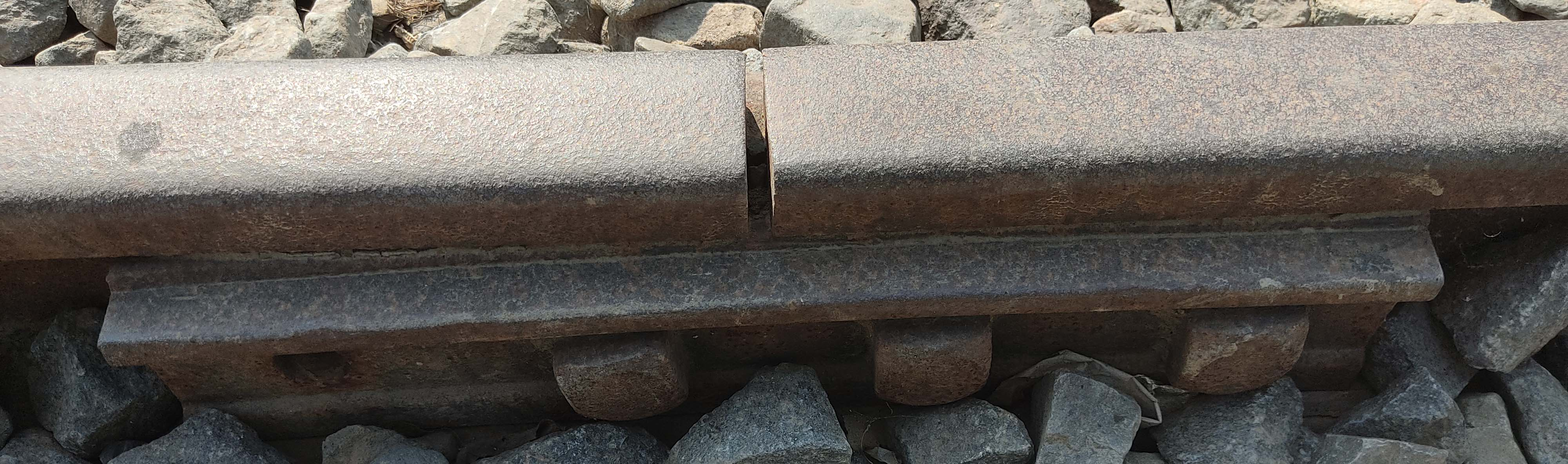duan lie: (724, 34, 801, 227)
